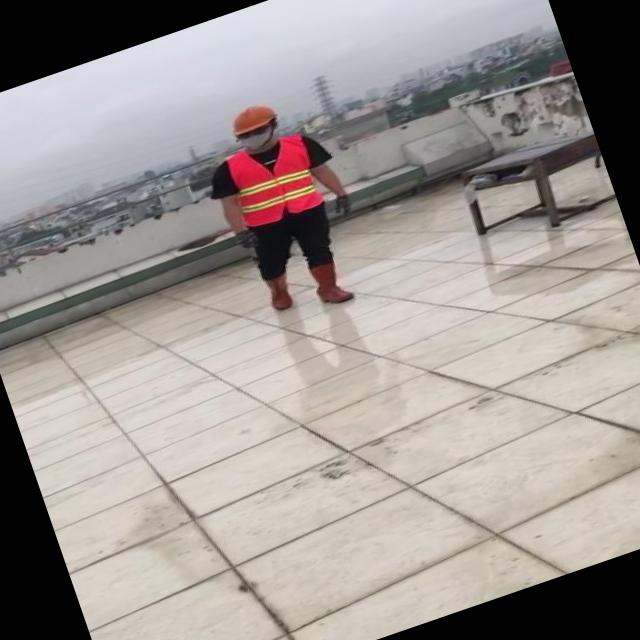hard_hat: (223, 97, 282, 138)
safety_vest: (224, 128, 326, 228)
vehicle: (188, 80, 389, 336)
work_boots: (308, 257, 354, 311), (262, 272, 296, 314)
